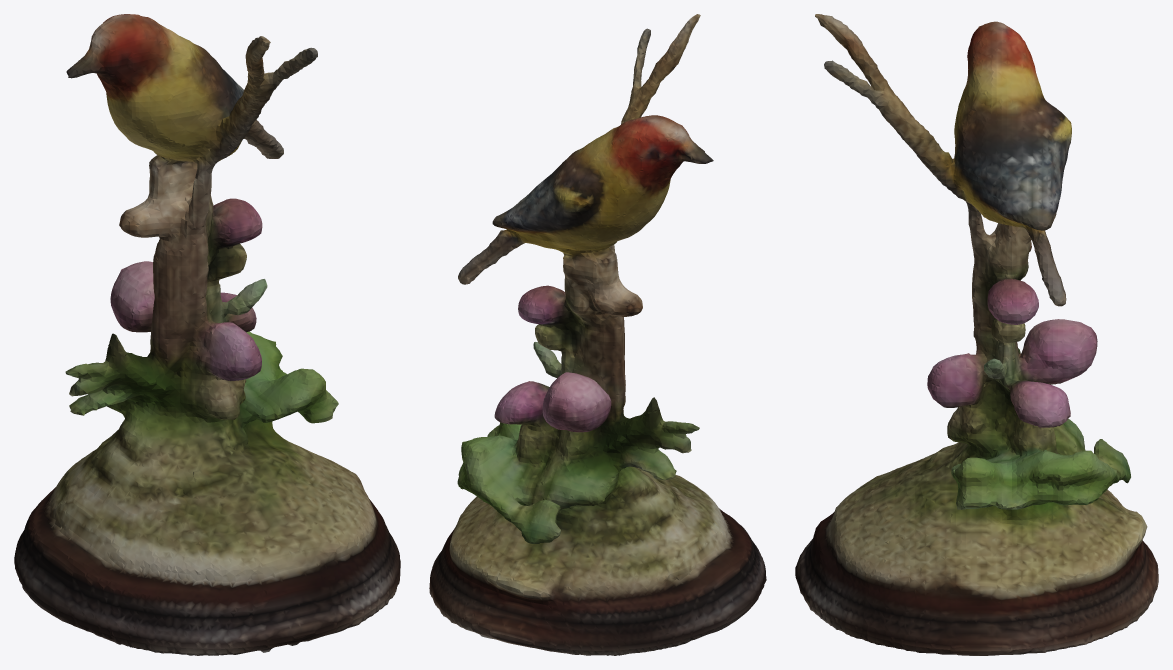
Rendered from bird.obj.
The picture shows the model from 3 angles, left to right: view 1: azimuth 30°, elevation 25°; view 2: azimuth 150°, elevation 25°; view 3: azimuth 270°, elevation 25°; orthographic projection. The views are drawn at different scales.
Size of the model in its own units: 1.14 by 1.99 by 1.17.
